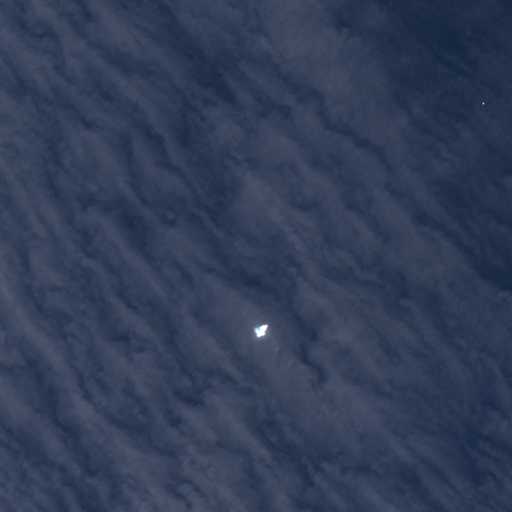Iceberg: (254, 324, 267, 337), (482, 102, 484, 104)
